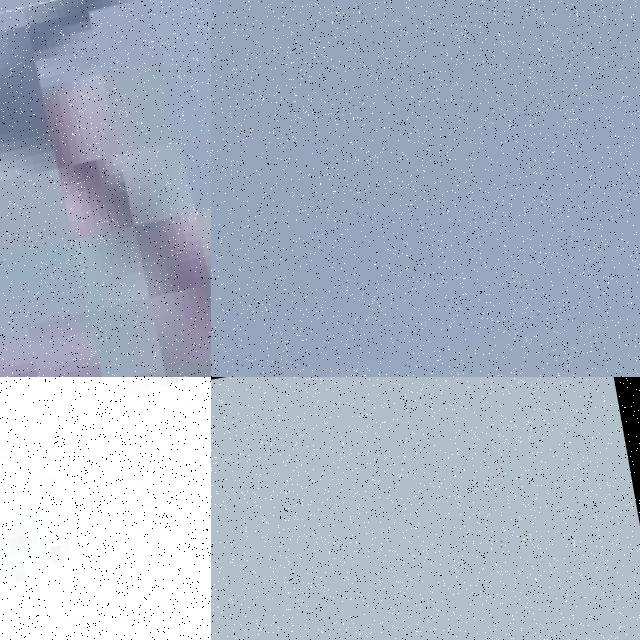0: (0, 0, 211, 377)
drone: (0, 377, 211, 640)
